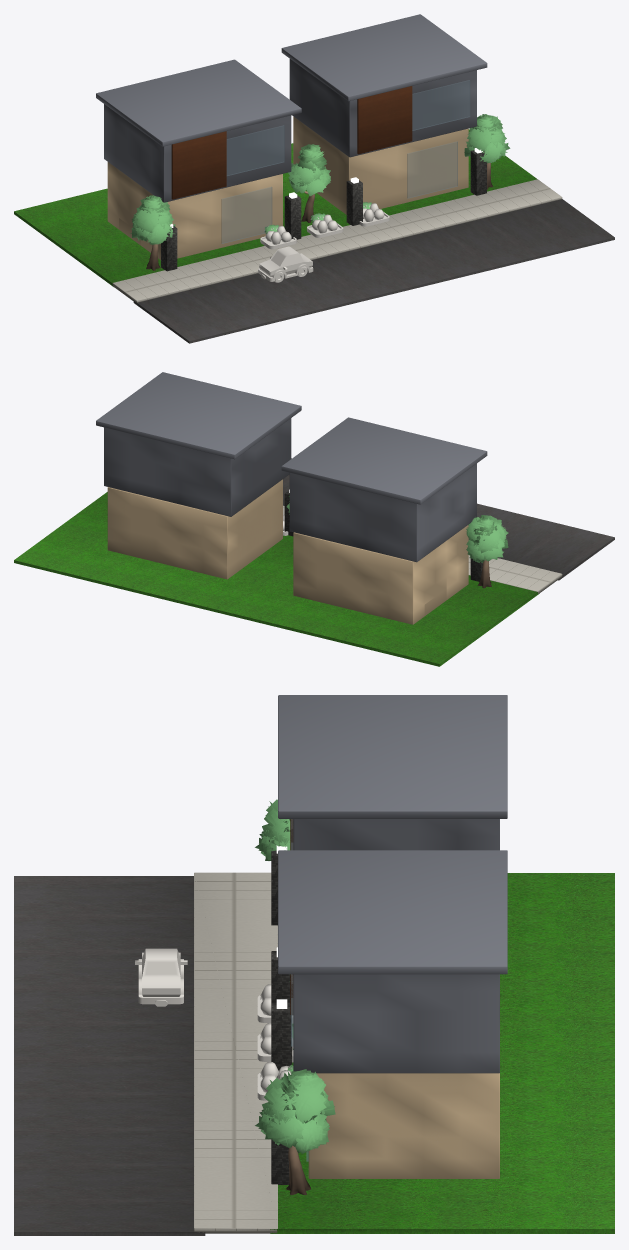
File: cluster_elite_street.glb
3 renders of one model, top to bottom at view 1: azimuth 30°, elevation 25°; view 2: azimuth 150°, elevation 25°; view 3: azimuth 270°, elevation 25°, orthographic. The views are drawn at different scales.
Visible parts, largest first — view 1: Road, Lawn, Sidewalk, House_4.8_Roof, House_-4.8_Roof, House_4.8_GF, House_-4.8_GF, House_-4.8_2F, House_4.8_2F, House_4.8_TeakAccent, House_-4.8_TeakAccent, House_4.8_WinGF (+14 smaller); view 2: Lawn, House_4.8_GF, House_-4.8_GF, House_-4.8_2F, House_4.8_2F, House_-4.8_Roof, House_4.8_Roof, Road, CommonTree_1, Sidewalk; view 3: Road, Lawn, House_4.8_Roof, House_-4.8_Roof, Sidewalk, House_4.8_2F, House_4.8_GF, House_-4.8_2F, CommonTree_1.001, body, GatePillar_1.5999999999999996, CommonTree_1 (+1 smaller).
Part boxes in pixels (<box>): Road: <box>133,199,614,343</box>; Lawn: <box>14,129,537,287</box>; Sidewalk: <box>112,179,562,302</box>; House_4.8_Roof: <box>281,14,487,101</box>; House_-4.8_Roof: <box>96,59,301,146</box>; House_4.8_GF: <box>293,116,468,214</box>; House_-4.8_GF: <box>107,162,282,259</box>; House_-4.8_2F: <box>104,104,291,202</box>; House_4.8_2F: <box>289,59,476,157</box>; House_4.8_TeakAccent: <box>357,86,412,154</box>; House_-4.8_TeakAccent: <box>171,131,226,199</box>; House_4.8_WinGF: <box>407,141,457,198</box>; Lawn: <box>14,492,539,666</box>; House_4.8_GF: <box>107,479,282,579</box>; House_-4.8_GF: <box>293,525,468,624</box>; House_-4.8_2F: <box>289,463,476,562</box>; House_4.8_2F: <box>104,418,291,516</box>; House_-4.8_Roof: <box>281,417,487,504</box>; House_4.8_Roof: <box>96,372,301,459</box>; Road: <box>283,458,614,580</box>; CommonTree_1: <box>466,515,508,588</box>; Sidewalk: <box>283,505,562,593</box>; Road: <box>14,876,205,1235</box>; Lawn: <box>270,873,614,1233</box>; House_4.8_Roof: <box>278,850,507,974</box>; House_-4.8_Roof: <box>278,695,507,818</box>; Sidewalk: <box>194,872,277,1233</box>; House_4.8_2F: <box>293,974,499,1073</box>; House_4.8_GF: <box>308,1073,499,1178</box>; House_-4.8_2F: <box>293,819,499,850</box>; CommonTree_1.001: <box>255,1069,335,1194</box>; body: <box>135,948,187,1006</box>; GatePillar_1.5999999999999996: <box>271,1002,292,1070</box>; CommonTree_1: <box>255,799,290,860</box>.
Size of the model in its own units: 22 by 6.56 by 15.7.
Materials: 25 (6 with a texture image).
